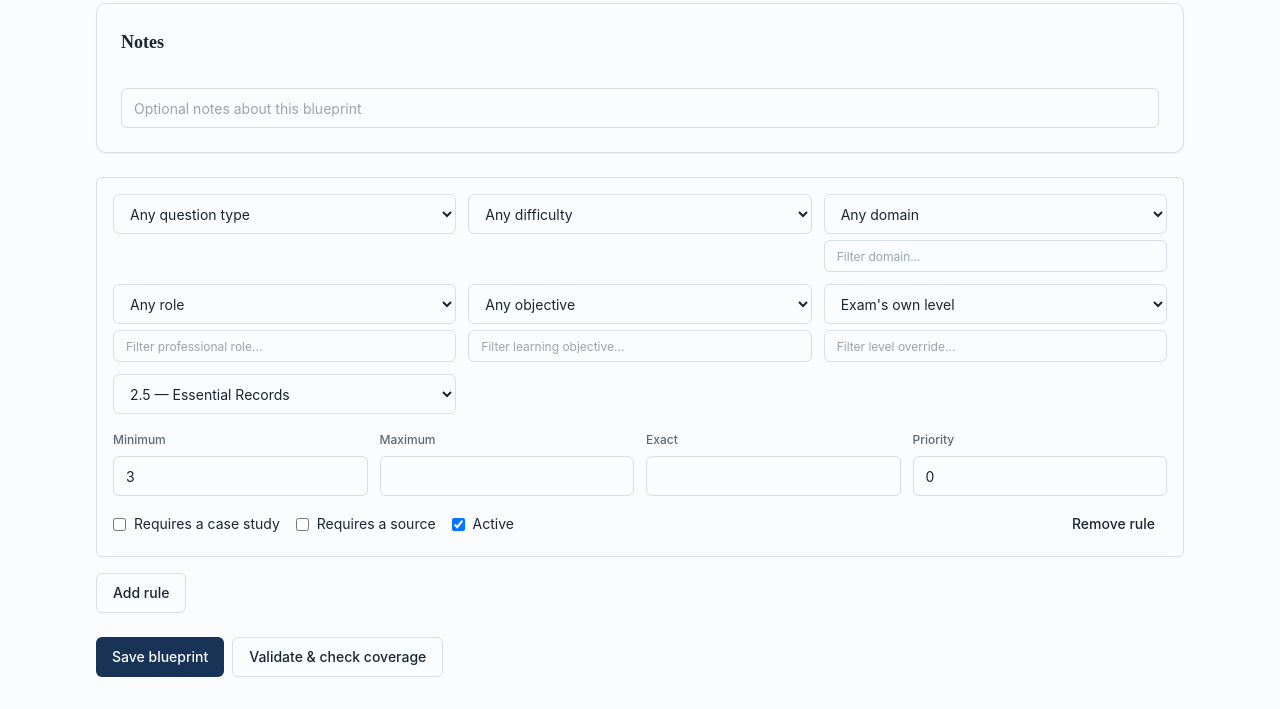
Test case: Exam blueprint page › renders the ICH E6(R3) section selector using the registered SourceSection values, and shows section coverage status
(page scrolled)
Click the button "Validate & check coverage": click(338, 657) [232,637,443,677]
(page scrolled)
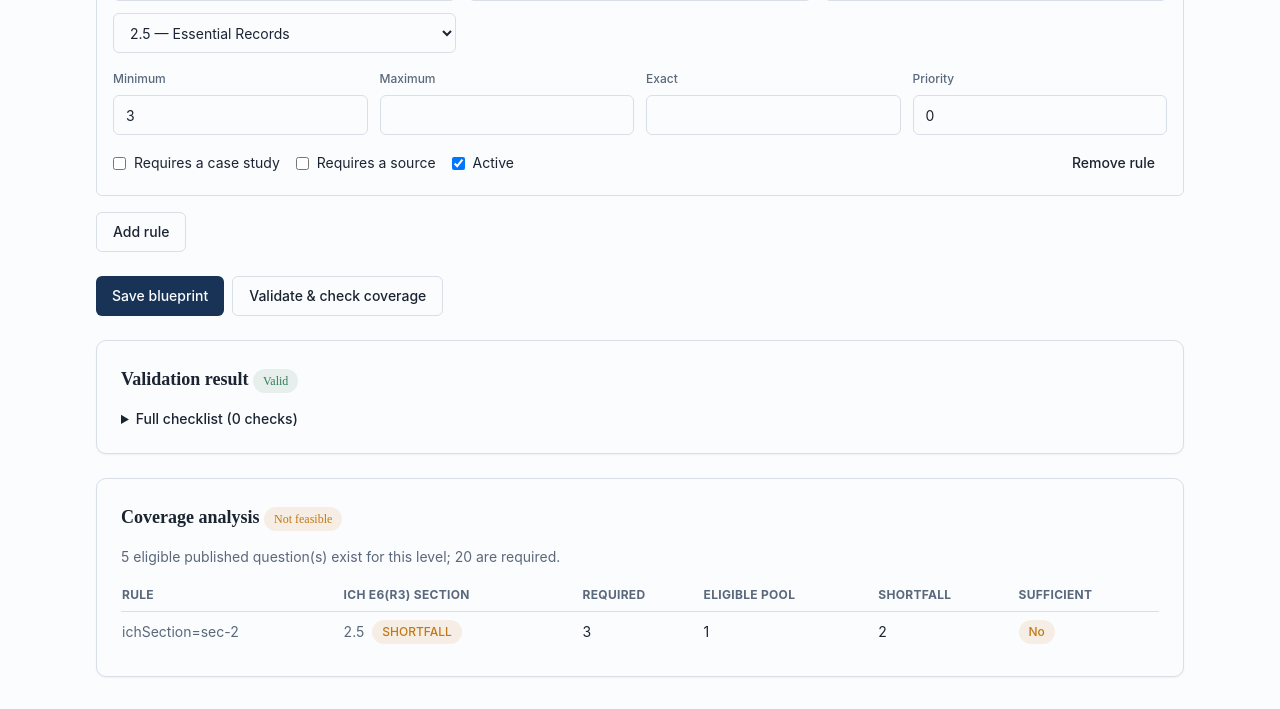
Expected: the text "SHORTFALL" is shown, [372,620,462,644]
